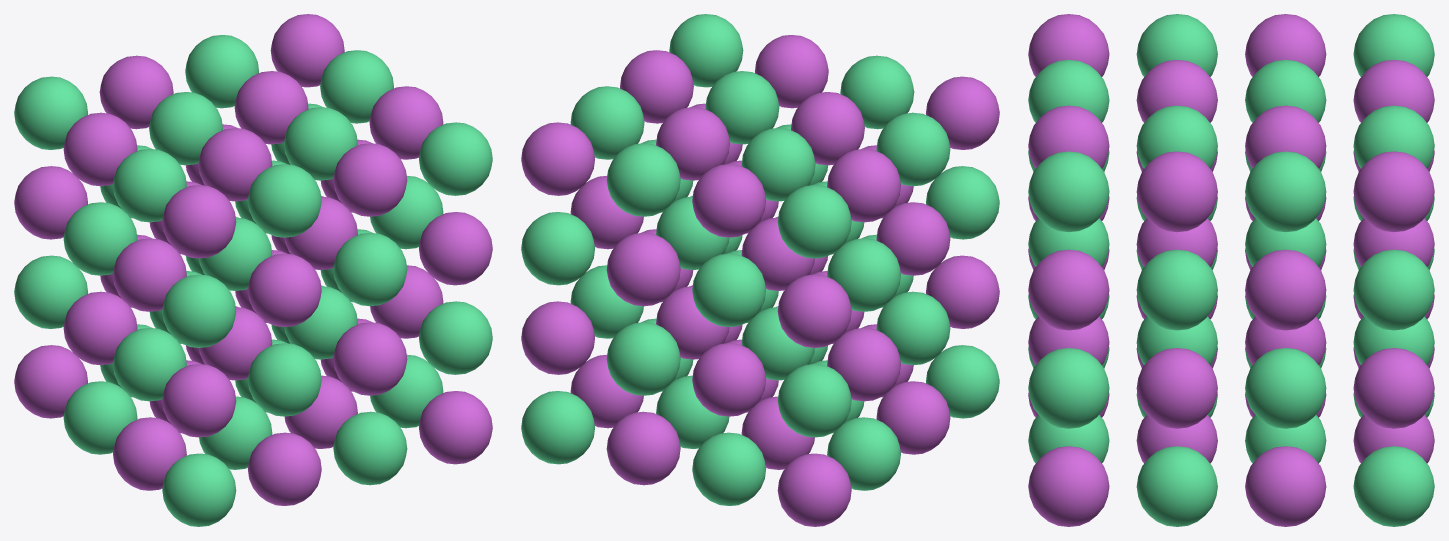
The model's file is nacl-crystal.glb.
3 renders of one model, left to right at view 1: azimuth 30°, elevation 25°; view 2: azimuth 150°, elevation 25°; view 3: azimuth 270°, elevation 25°, orthographic. The views are drawn at different scales.
Parts seen in each view (by area): view 1: Cl_35, Cl_43, Na_7, Na_15, Cl_63, Cl_3, Cl_31, Cl_55, Cl_11, Na_19, Cl_23, Na_39 (+34 smaller); view 2: Na_32, Na_40, Cl_4, Cl_12, Na_60, Na_0, Na_28, Na_52, Na_8, Cl_16, Na_20, Cl_36 (+34 smaller); view 3: Na_60, Cl_63, Na_57, Cl_58, Cl_48, Na_51, Cl_56, Na_59, Cl_61, Na_62, Na_52, Cl_53 (+28 smaller).
Part boxes in pixels (left/top/right/bottom): Cl_35: left=333, top=411, right=407, bottom=485; Cl_43: left=333, top=232, right=407, bottom=306; Na_7: left=162, top=364, right=236, bottom=437; Na_15: left=162, top=185, right=236, bottom=258; Cl_63: left=419, top=122, right=492, bottom=195; Cl_3: left=162, top=453, right=236, bottom=526; Cl_31: left=248, top=164, right=321, bottom=237; Cl_55: left=419, top=301, right=492, bottom=374; Cl_11: left=162, top=274, right=236, bottom=347; Na_19: left=248, top=432, right=321, bottom=505; Cl_23: left=248, top=343, right=321, bottom=416; Na_39: left=333, top=322, right=407, bottom=395; Na_32: left=606, top=411, right=680, bottom=485; Na_40: left=606, top=232, right=680, bottom=306; Cl_4: left=777, top=364, right=851, bottom=437; Cl_12: left=777, top=185, right=851, bottom=258; Na_60: left=521, top=122, right=594, bottom=195; Na_0: left=777, top=453, right=851, bottom=526; Na_28: left=692, top=164, right=765, bottom=237; Na_52: left=521, top=301, right=594, bottom=374; Na_8: left=777, top=274, right=851, bottom=347; Cl_16: left=692, top=432, right=765, bottom=505; Na_20: left=692, top=343, right=765, bottom=416; Cl_36: left=606, top=322, right=680, bottom=395; Na_60: left=1353, top=151, right=1434, bottom=232; Cl_63: left=1028, top=151, right=1109, bottom=232; Na_57: left=1245, top=249, right=1326, bottom=330; Cl_58: left=1136, top=249, right=1217, bottom=330; Cl_48: left=1353, top=446, right=1434, bottom=526; Na_51: left=1028, top=446, right=1109, bottom=526; Cl_56: left=1353, top=249, right=1434, bottom=330; Na_59: left=1028, top=249, right=1109, bottom=330; Cl_61: left=1245, top=151, right=1326, bottom=232; Na_62: left=1136, top=151, right=1217, bottom=232; Na_52: left=1353, top=348, right=1434, bottom=428; Cl_53: left=1245, top=348, right=1326, bottom=428.
Bounding box in the file's own units: 4.5 × 4.5 × 4.5.
